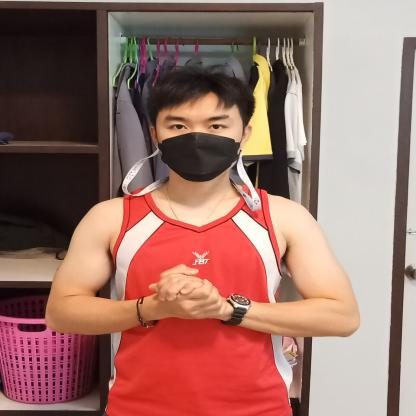Grieve: (110, 250, 305, 334)
